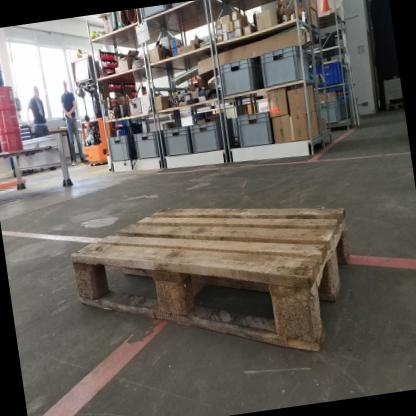BoxFace: (70, 204, 354, 355)
